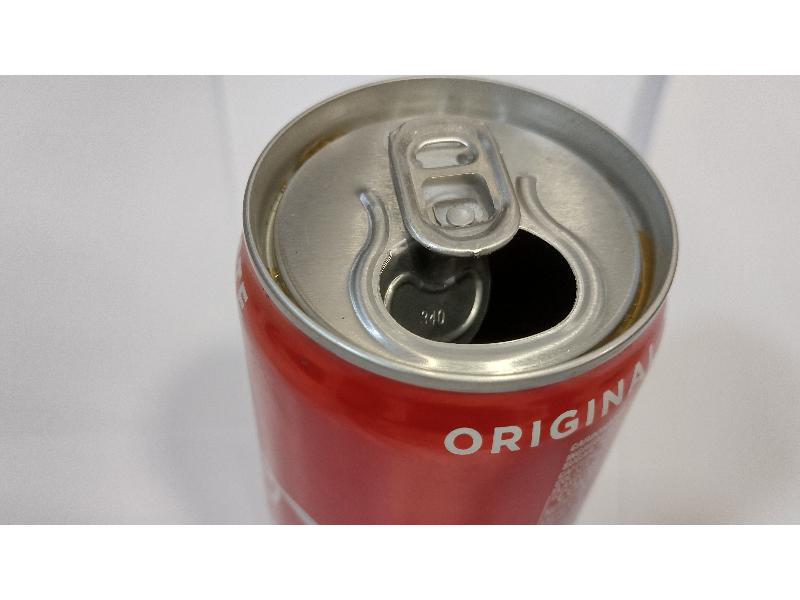can: (225, 75, 681, 524)
